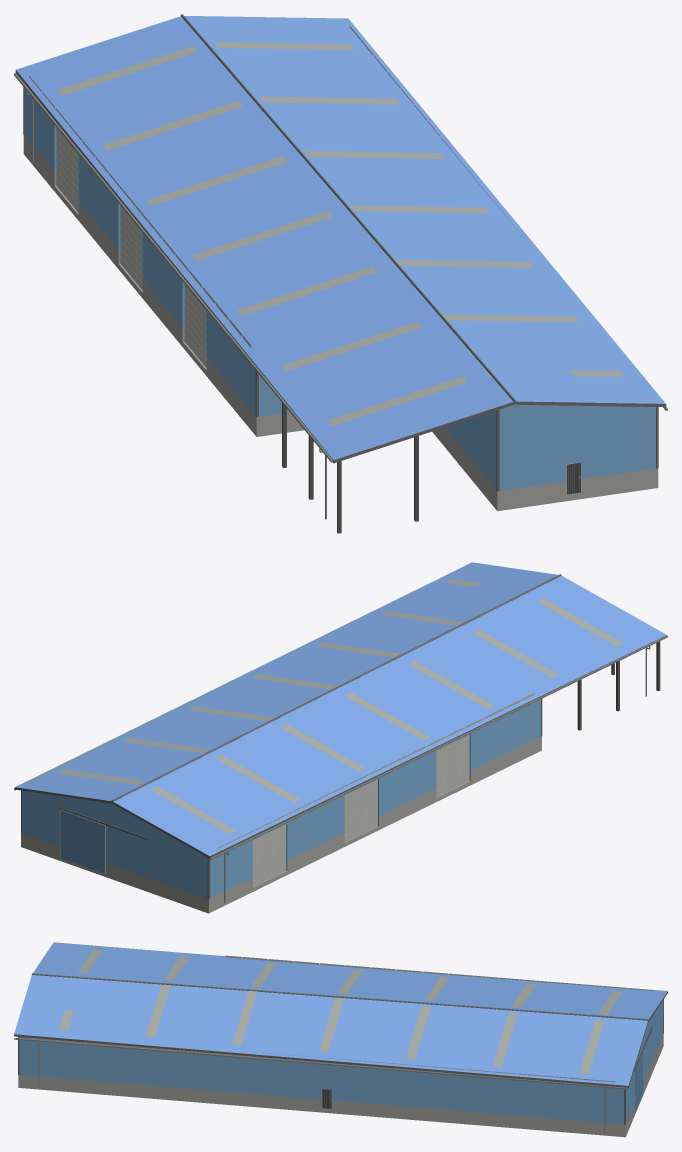
Rendered from fb_shed_31.glb.
3 renders of one model, top to bottom at view 1: azimuth 30°, elevation 25°; view 2: azimuth 150°, elevation 25°; view 3: azimuth 270°, elevation 25°, orthographic. The views are drawn at different scales.
Parts seen in each view (by area): view 1: vh_roof, vh_sheet, vh_light, vh_trim, vh_plinth, vh_frames_small; view 2: vh_roof, vh_sheet, vh_trim, vh_light, vh_plinth, vh_frames_small, vh_door; view 3: vh_roof, vh_sheet, vh_plinth, vh_light, vh_trim, vh_frames_small, vh_door.
Part boxes in pixels (x1,y1,x2,y2): vh_roof: (16, 16, 665, 459); vh_sheet: (24, 88, 655, 490); vh_light: (29, 26, 623, 426); vh_trim: (15, 14, 666, 533); vh_plinth: (23, 135, 658, 511); vh_frames_small: (14, 73, 667, 519); vh_roof: (15, 562, 666, 855); vh_sheet: (22, 699, 540, 898); vh_trim: (14, 574, 667, 899); vh_light: (28, 579, 623, 848); vh_plinth: (21, 736, 541, 913); vh_frames_small: (14, 635, 667, 902); vh_door: (61, 810, 104, 873); vh_roof: (14, 942, 667, 1085); vh_sheet: (19, 1000, 663, 1124); vh_plinth: (18, 1034, 663, 1137); vh_light: (28, 949, 653, 1082); vh_trim: (14, 973, 667, 1124); vh_frames_small: (14, 942, 627, 1132); vh_door: (634, 1051, 643, 1114).
Bounding box in the file's own units: 32.99 × 7.68 × 62.43.
